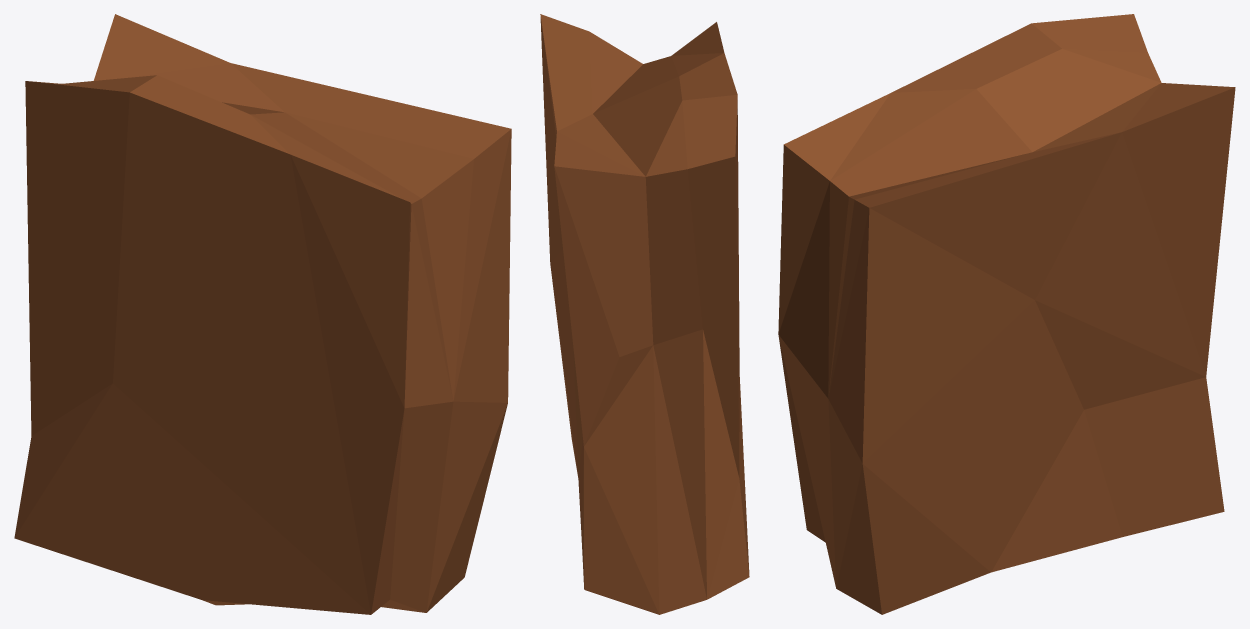
The model's file is Boulder_03_Flat.obj.
The picture shows the model from 3 angles, left to right: view 1: azimuth 30°, elevation 25°; view 2: azimuth 150°, elevation 25°; view 3: azimuth 270°, elevation 25°; orthographic projection. The views are drawn at different scales.
Parts seen in each view (by area): view 1: Boulder_03_Flat; view 2: Boulder_03_Flat; view 3: Boulder_03_Flat.
Part boxes in pixels (bbox=[...]): Boulder_03_Flat: bbox=[14, 14, 511, 614]; Boulder_03_Flat: bbox=[540, 14, 749, 614]; Boulder_03_Flat: bbox=[778, 14, 1235, 614].
Bounding box in the file's own units: 2.75 × 3.79 × 3.14.
